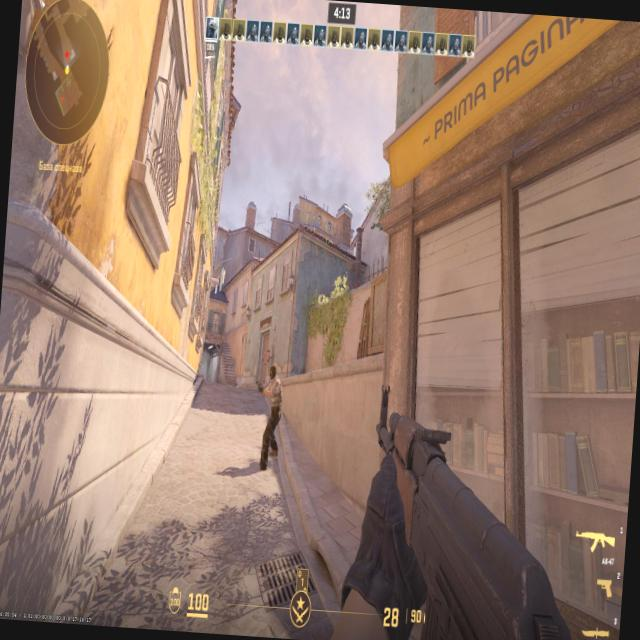T: (266, 368, 282, 436)
T_heat: (270, 371, 276, 392)
